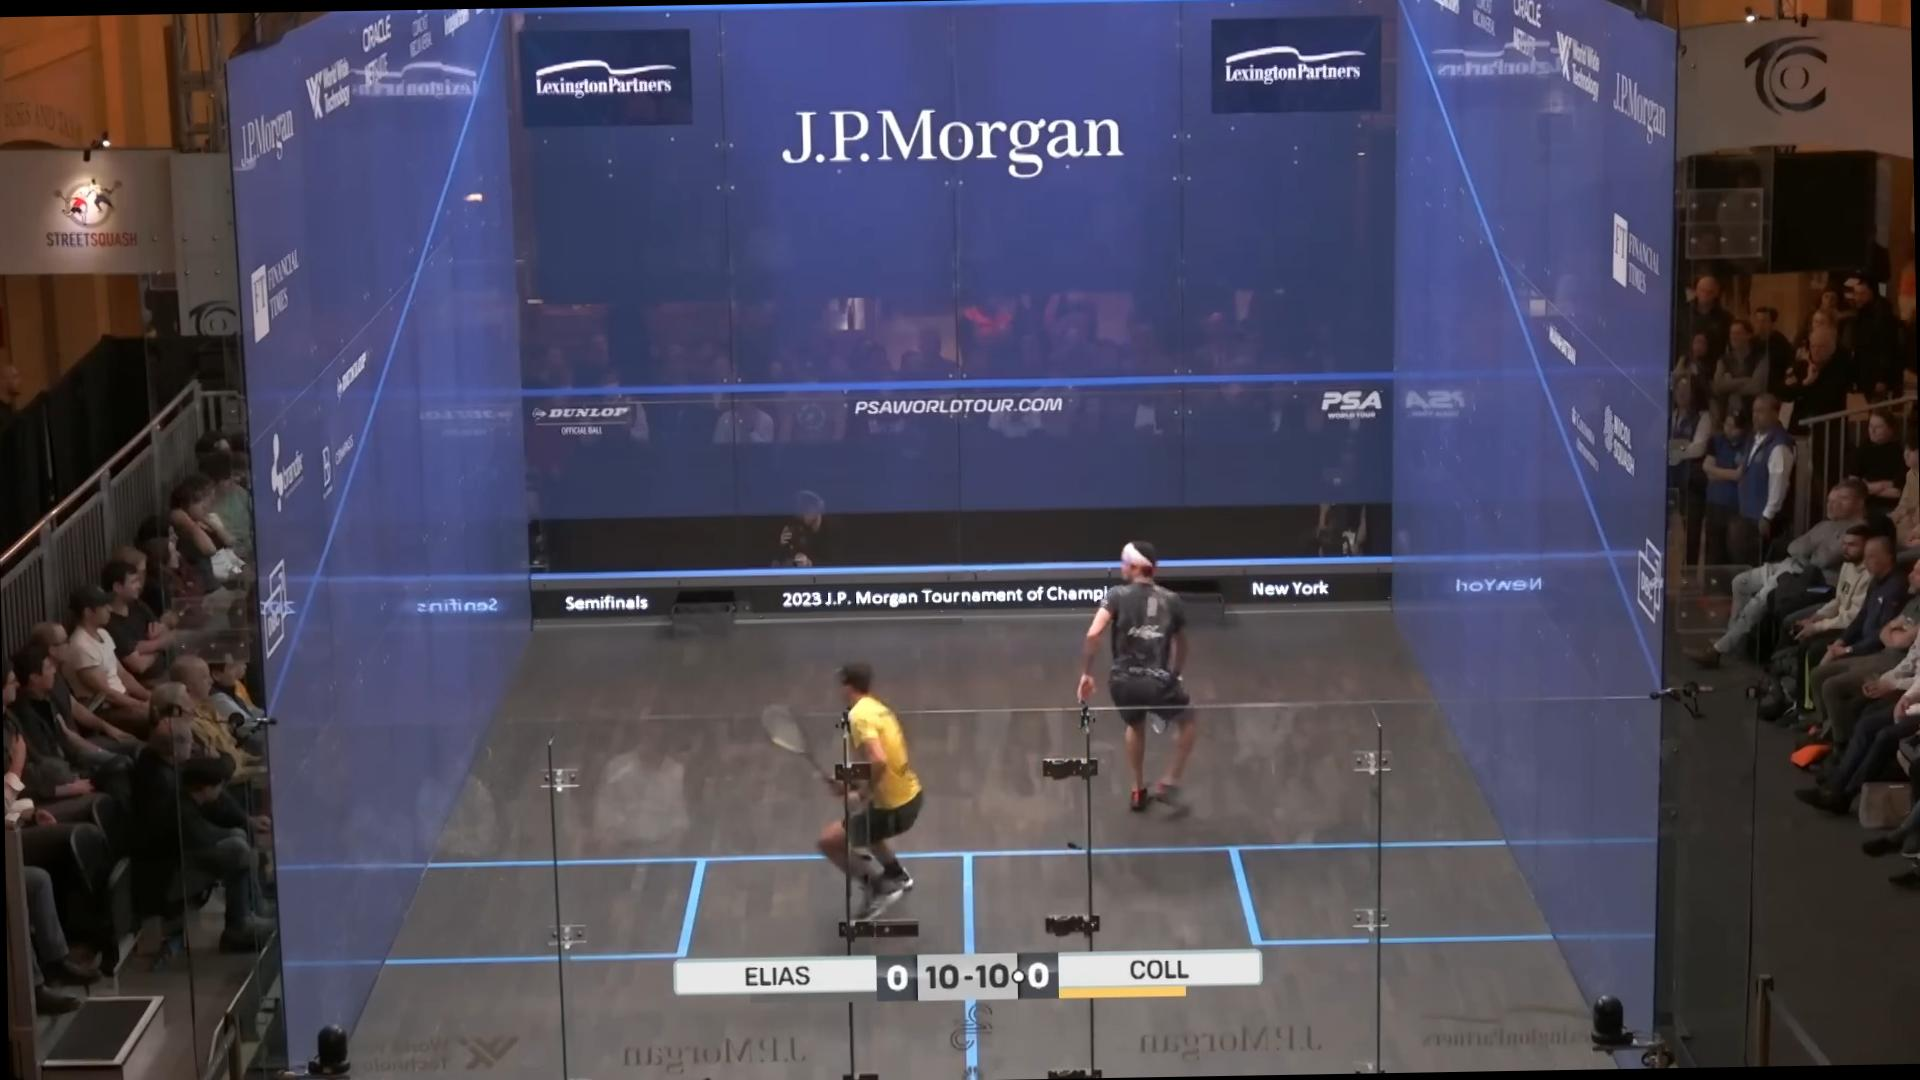Racket: (752, 698, 832, 785)
